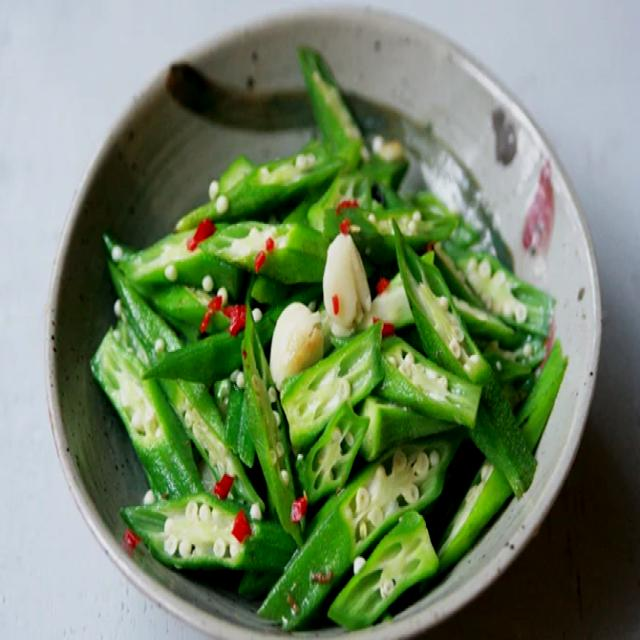dau bap: (91, 47, 568, 628)
